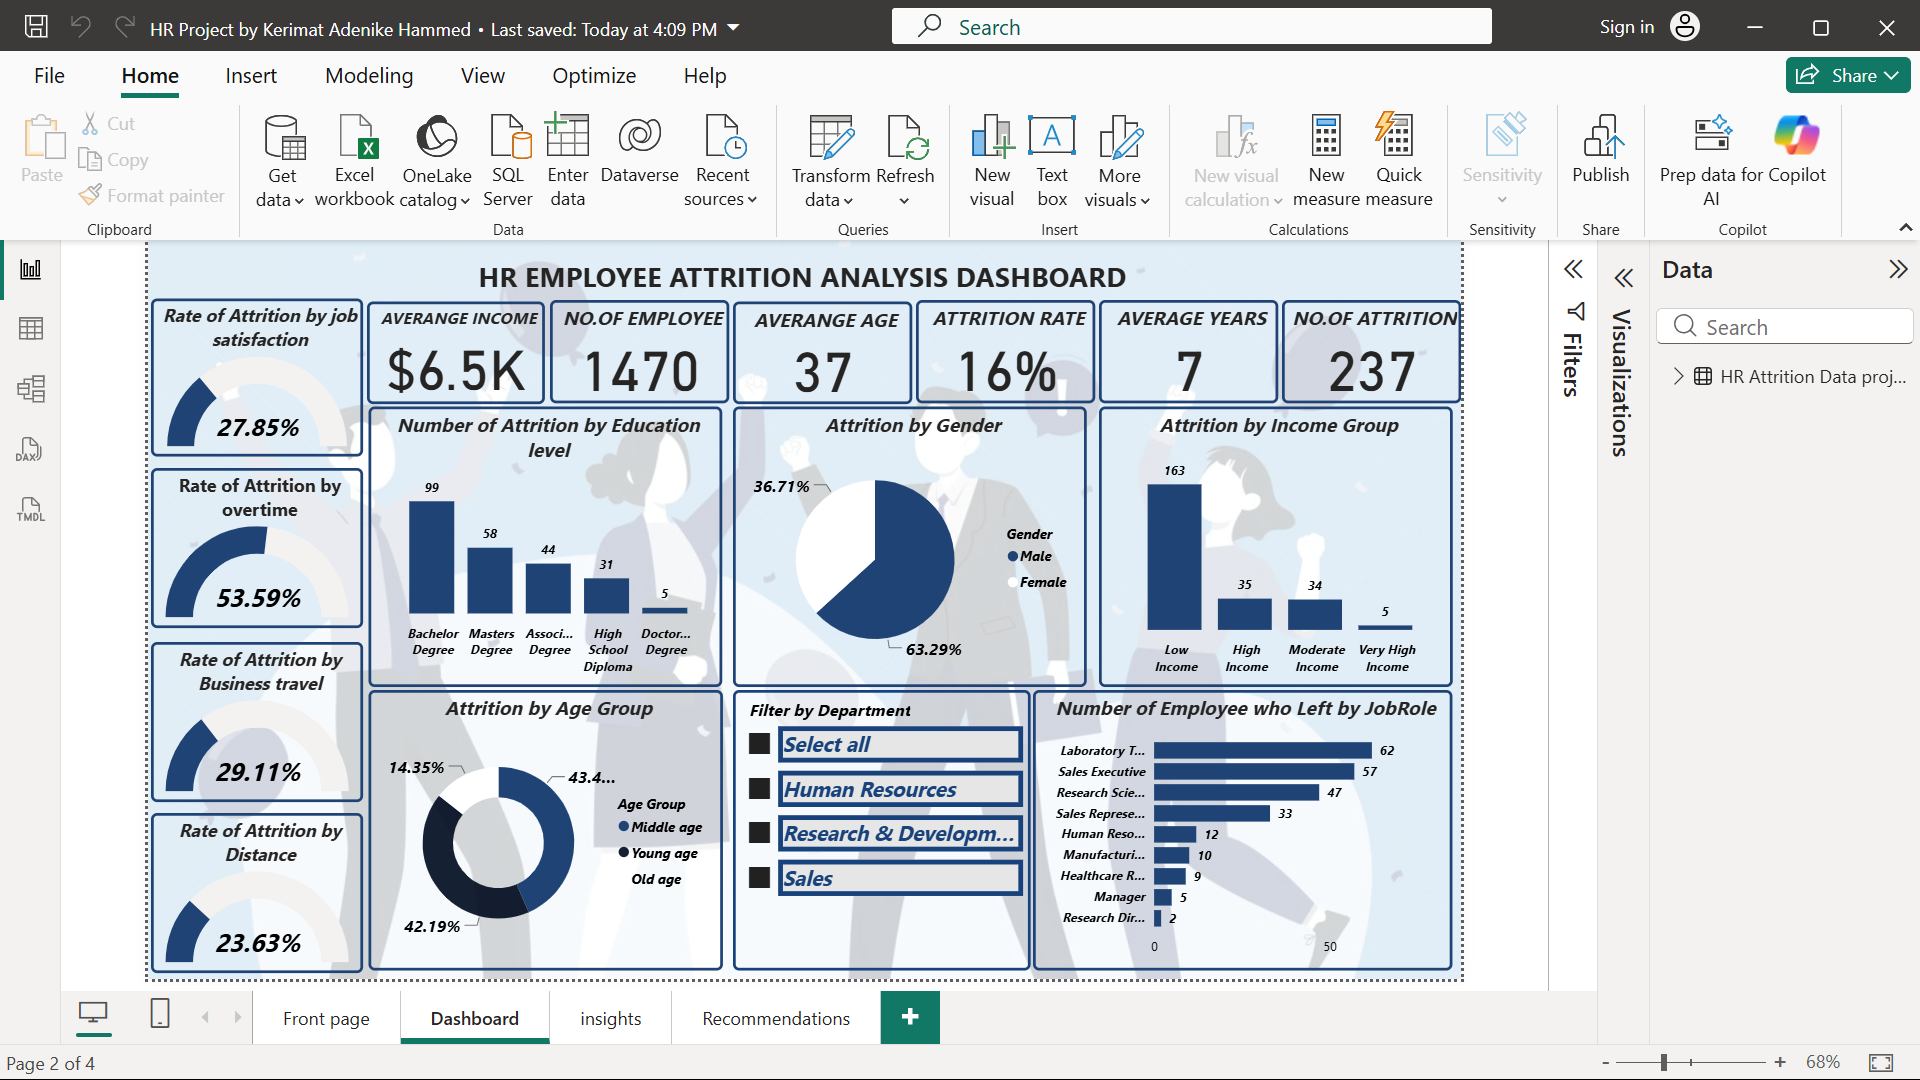

The dashboard page shown, as its layout file describes it:
{"tool":"powerbi","page":{"name":"Dashboard","canvas":[1280,720],"ordinal":1},"visuals":[{"type":"card","title":"NO.OF EMPLOYEE","fields":{"Values":["HR Attrition Data project.Total employee"]},"box":[391.9,58.3,174.9,100.4],"z":0},{"type":"card","title":"AVERANGE INCOME","fields":{"Values":["HR Attrition Data project.Avg income"]},"box":[213.7,59.9,173.3,100],"z":1000},{"type":"card","title":"AVERANGE AGE","fields":{"Values":["HR Attrition Data project.Avg Age"]},"box":[570,59.9,174.9,100],"z":2000},{"type":"card","title":"AVERAGE YEARS","fields":{"Values":["HR Attrition Data project.Avg Years"]},"box":[926.2,58.3,174.9,100.4],"z":3000},{"type":"columnChart","fields":{"Category":["HR Attrition Data project.Education level"],"Y":["HR Attrition Data project.Number of Attrition"]},"box":[215.4,161.9,344.9,273.6],"z":4000},{"type":"pieChart","title":"Attrition by Gender","fields":{"Category":["HR Attrition Data project.Gender"],"Y":["HR Attrition Data project.Number of Attrition"]},"box":[570,161.9,344.9,273.6],"z":5000},{"type":"clusteredColumnChart","title":"Attrition by Income Group","fields":{"Category":["HR Attrition Data project.Income Group"],"Y":["HR Attrition Data project.Number of Attrition"]},"box":[926.2,161.9,344.9,273.6],"z":6000},{"type":"card","title":"NO.OF ATTRITION","fields":{"Values":["HR Attrition Data project.Number of Attrition"]},"box":[1104.3,58.3,174.9,100.4],"z":7000},{"type":"card","title":"ATTRITION RATE","fields":{"Values":["HR Attrition Data project.Attrition rate"]},"box":[748.1,58.3,174.9,100.4],"z":8000},{"type":"clusteredBarChart","title":"Number of Employee who Left by JobRole","fields":{"Category":["HR Attrition Data project.JobRole"],"Y":["HR Attrition Data project.Number of Attrition"]},"box":[862.1,439,408.8,273],"z":9000},{"type":"gauge","title":"Rate of Attrition by job satisfaction","fields":{"Y":["HR Attrition Data project.Rate of Attition by job satisfaction"]},"box":[3.2,57.3,206.8,154.3],"z":10000},{"type":"gauge","title":"Rate of Attrition by overtime","fields":{"Y":["HR Attrition Data project.Rate of Attition by overtime"]},"box":[3.2,222.7,206.8,155.9],"z":11000},{"type":"gauge","title":"Rate of Attrition by Business travel","fields":{"Y":["HR Attrition Data project.Rate of Attition by Business travel"]},"box":[3.2,391.3,206.8,155.9],"z":12000},{"type":"gauge","title":"Rate of Attrition by Distance","fields":{"Y":["HR Attrition Data project.Rate of Attition by Distance"]},"box":[3.2,558.3,206.8,155.9],"z":13000},{"type":"donutChart","title":" Attrition by Age Group","fields":{"Y":["HR Attrition Data project.Number of Attrition"],"Category":["HR Attrition Data project.Age Group"]},"box":[214.7,439,345.2,273],"z":14000},{"type":"slicer","fields":{"Values":["HR Attrition Data project.Department"]},"box":[570,438.8,290,273],"z":15000},{"type":"textbox","box":[100.4,11.3,1073.5,45.3],"z":16000}]}

Visuals, with their boxes on the page's 1280x720 design canvas (x1, y1, x2, y2). These are canvas units, not pixel positions in the 1920x1080 screenshot, which may show the page scaled, cropped or inside an application window:
"NO.OF EMPLOYEE" card: (392,58,567,159)
"AVERANGE INCOME" card: (214,60,387,160)
"AVERANGE AGE" card: (570,60,745,160)
"AVERAGE YEARS" card: (926,58,1101,159)
columnChart - HR Attrition Data project.Education level x HR Attrition Data project.Number of Attrition: (215,162,560,436)
"Attrition by Gender" pieChart: (570,162,915,436)
"Attrition by Income Group" clusteredColumnChart: (926,162,1271,436)
"NO.OF ATTRITION" card: (1104,58,1279,159)
"ATTRITION RATE" card: (748,58,923,159)
"Number of Employee who Left by JobRole" clusteredBarChart: (862,439,1271,712)
"Rate of Attrition by job satisfaction" gauge: (3,57,210,212)
"Rate of Attrition by overtime" gauge: (3,223,210,379)
"Rate of Attrition by Business travel" gauge: (3,391,210,547)
"Rate of Attrition by Distance" gauge: (3,558,210,714)
" Attrition by Age Group" donutChart: (215,439,560,712)
slicer - HR Attrition Data project.Department: (570,439,860,712)
textbox: (100,11,1174,57)
